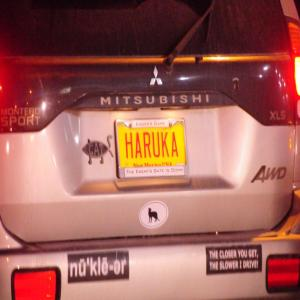Vehicle-registration-plate: (115, 119, 190, 179)
